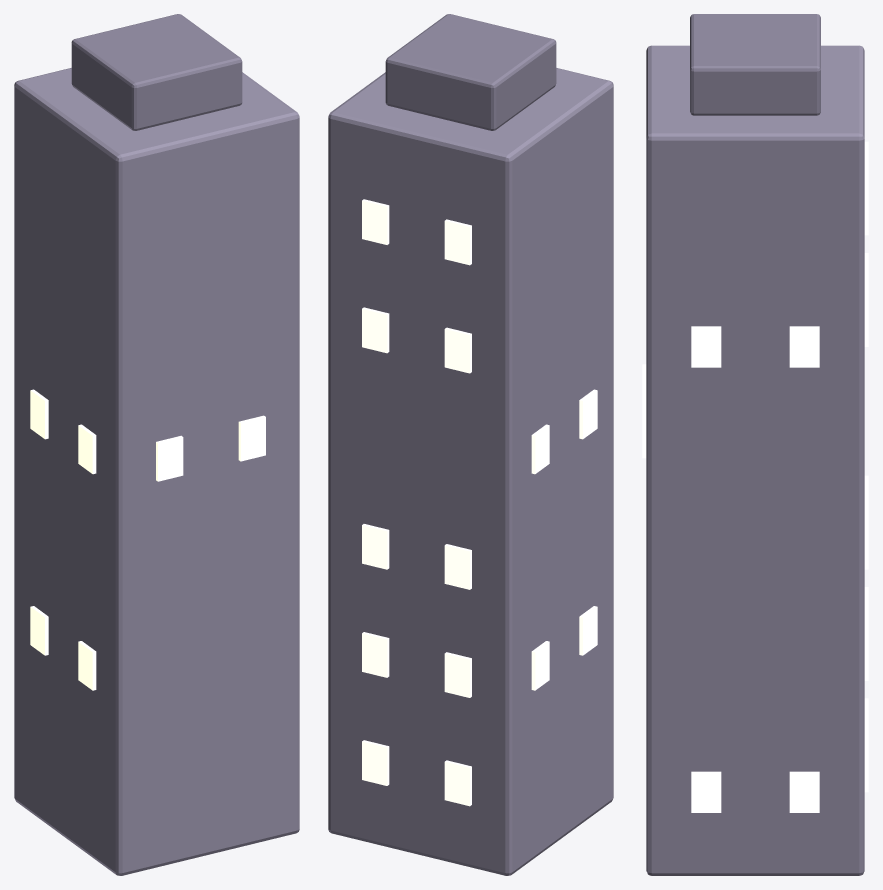
File: tower_a.glb
3 renders of one model, left to right at view 1: azimuth 30°, elevation 25°; view 2: azimuth 150°, elevation 25°; view 3: azimuth 270°, elevation 25°, orthographic. The views are drawn at different scales.
Visible parts, largest first — view 1: Tower, Roof, Windows; view 2: Tower, Roof, Windows; view 3: Tower, Roof, Windows.
Part boxes in pixels (x1=…): Tower: x1=14, y1=68, x2=299, y2=875; Roof: x1=71, y1=14, x2=242, y2=130; Windows: x1=30, y1=389, x2=265, y2=690; Tower: x1=328, y1=68, x2=613, y2=875; Roof: x1=385, y1=14, x2=556, y2=130; Windows: x1=362, y1=199, x2=597, y2=806; Tower: x1=646, y1=45, x2=864, y2=875; Roof: x1=690, y1=14, x2=820, y2=115; Windows: x1=642, y1=141, x2=868, y2=812.
Bounding box in the file's own units: 1.66 × 6.4 × 1.66.
